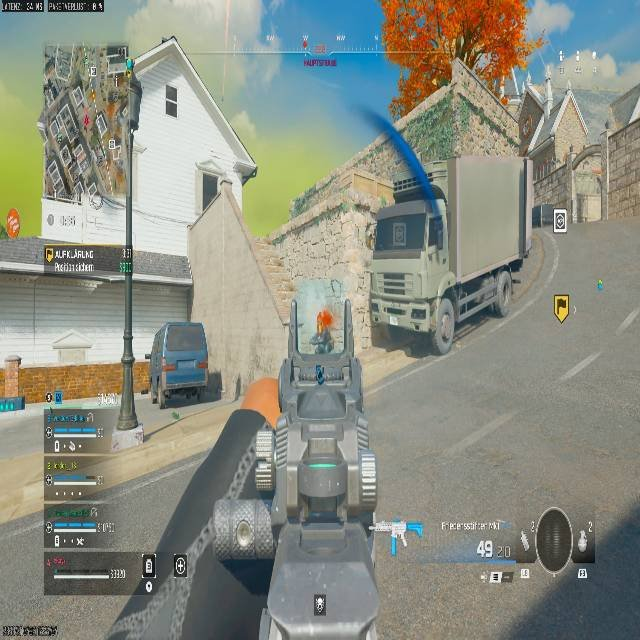player: (313, 308, 332, 351)
